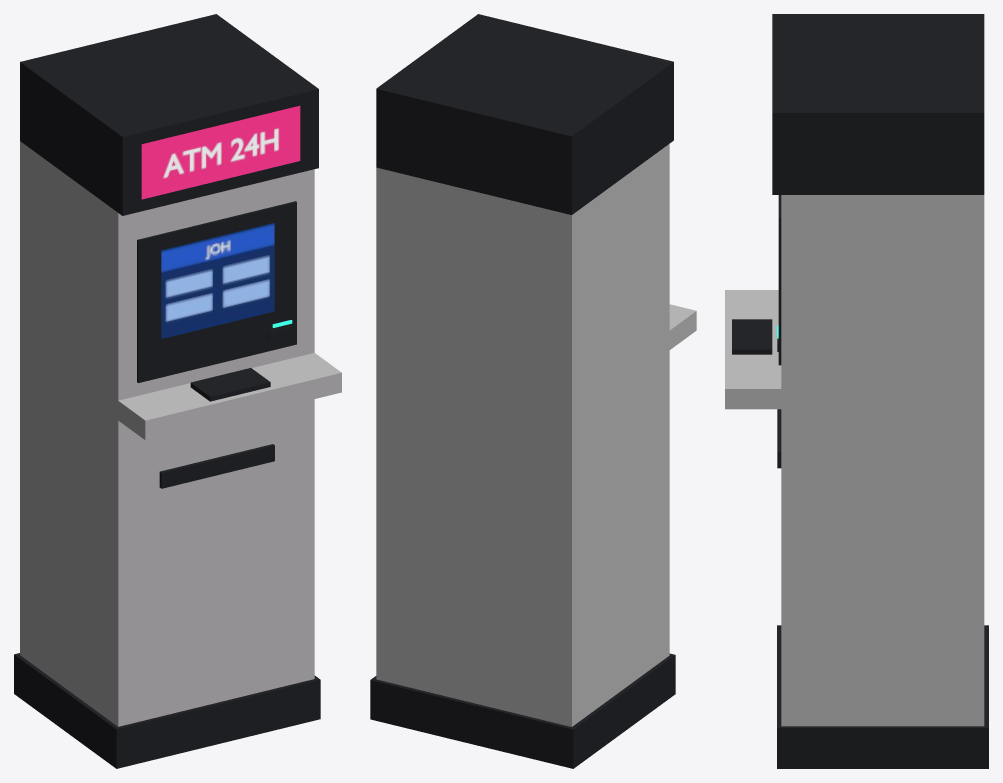
The model's file is ENT_Caixa_Eletronico.glb.
3 renders of one model, left to right at view 1: azimuth 30°, elevation 25°; view 2: azimuth 150°, elevation 25°; view 3: azimuth 270°, elevation 25°, orthographic. The views are drawn at different scales.
Visible parts, largest first — view 1: ENT_Caixa_Eletronico; view 2: ENT_Caixa_Eletronico; view 3: ENT_Caixa_Eletronico.
Boxes of the visible parts, box(x1,y1,x2,y2) form: ENT_Caixa_Eletronico: box(14, 14, 341, 768); ENT_Caixa_Eletronico: box(370, 14, 696, 768); ENT_Caixa_Eletronico: box(725, 14, 988, 768).
Bounding box in the file's own units: 0.54 × 1.6 × 0.585.
4 materials, 1 textured.
